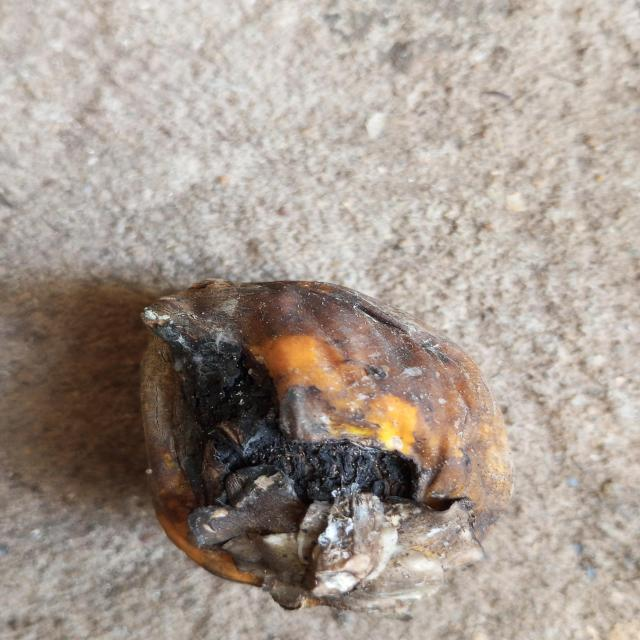damaged: (142, 280, 513, 617)
